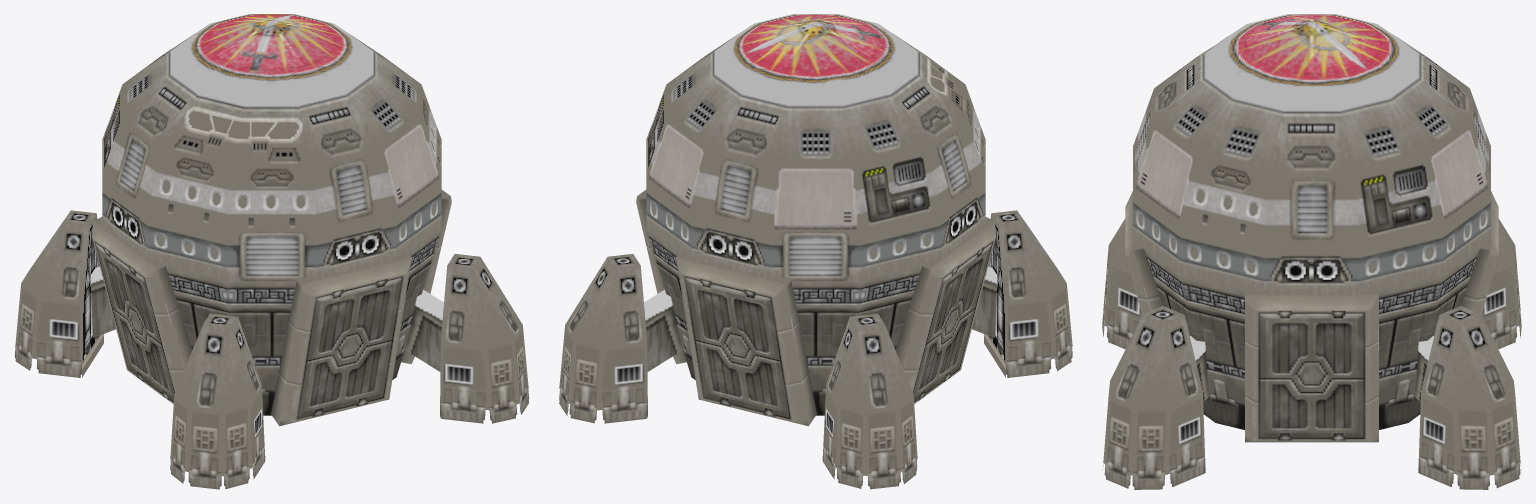
Rendered from dropshipdavion.glb.
3 views of the same model, side by side, from view 1: azimuth 30°, elevation 25°; view 2: azimuth 150°, elevation 25°; view 3: azimuth 270°, elevation 25° (orthographic). The views are drawn at different scales.
Parts seen in each view (by area): view 1: Dropship, LitWin_Dropship; view 2: Dropship, LitWin_Dropship; view 3: Dropship, LitWin_Dropship.
Part boxes in pixels (box(x1,y1,x2,y2)): Dropship: box(14, 14, 529, 489); LitWin_Dropship: box(157, 111, 435, 259); Dropship: box(559, 14, 1072, 489); LitWin_Dropship: box(652, 66, 978, 259); Dropship: box(1102, 14, 1521, 489); LitWin_Dropship: box(1138, 190, 1485, 272).
Bounding box in the file's own units: 34.84 × 34.67 × 34.84.
Materials: 1 (1 with a texture image).
